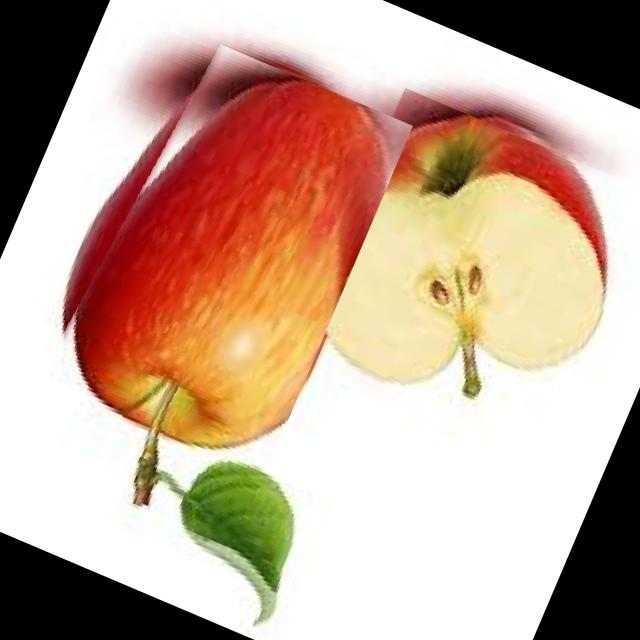Organic: (14, 27, 412, 520), (288, 86, 640, 472)
